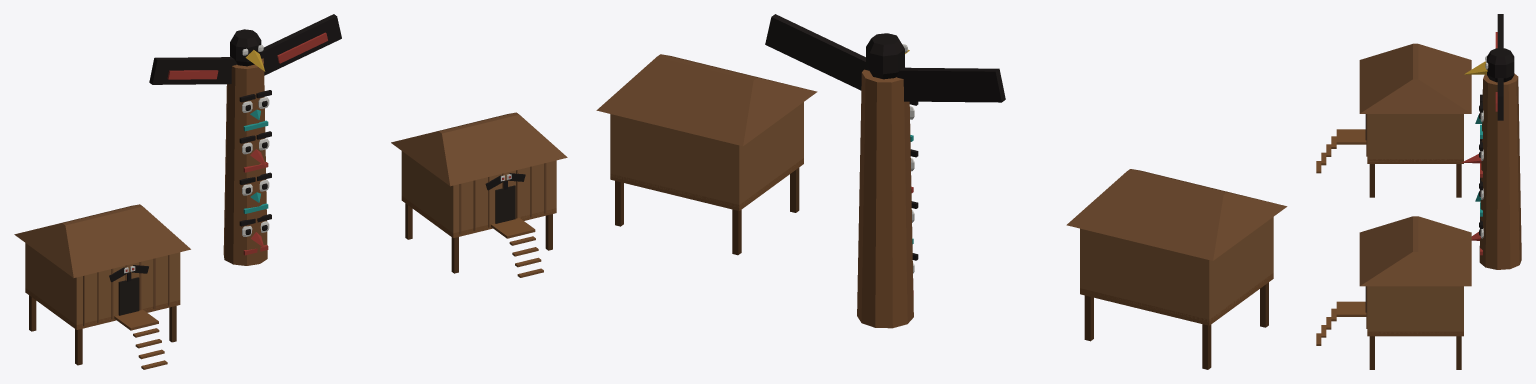
Rendered from bird_court.glb.
3 renders of one model, left to right at view 1: azimuth 30°, elevation 25°; view 2: azimuth 150°, elevation 25°; view 3: azimuth 270°, elevation 25°, orthographic. The views are drawn at different scales.
Parts seen in each view (by area): view 1: bird_court; view 2: bird_court; view 3: bird_court.
Part boxes in pixels (<box>): bird_court: <box>14,14,567,369</box>; bird_court: <box>596,14,1287,369</box>; bird_court: <box>1316,14,1521,369</box>.
Bounding box in the file's own units: 6.3 × 2.71 × 2.42.
